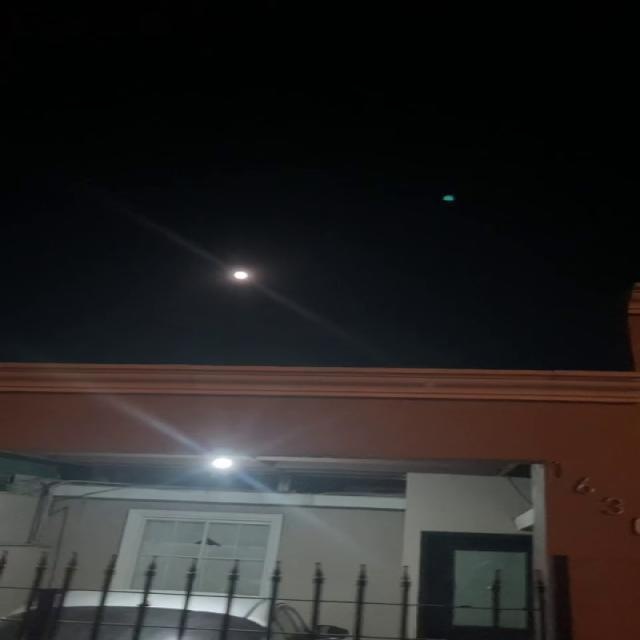moon: (229, 266, 260, 285)
